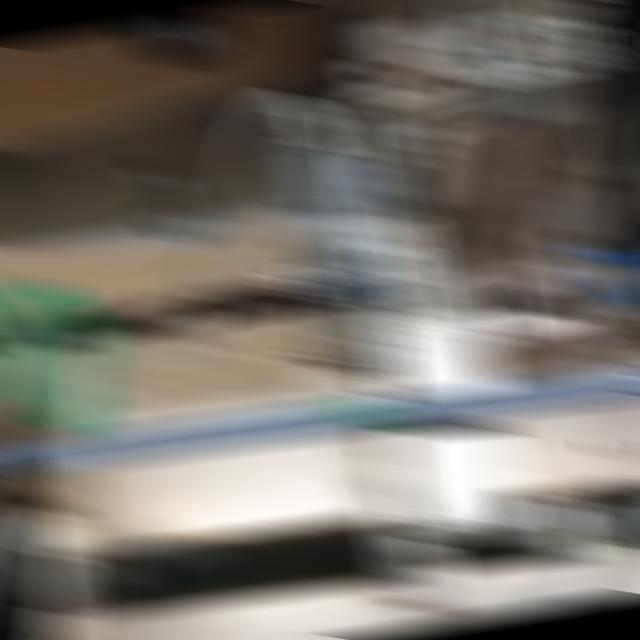green: (334, 394, 397, 435)
